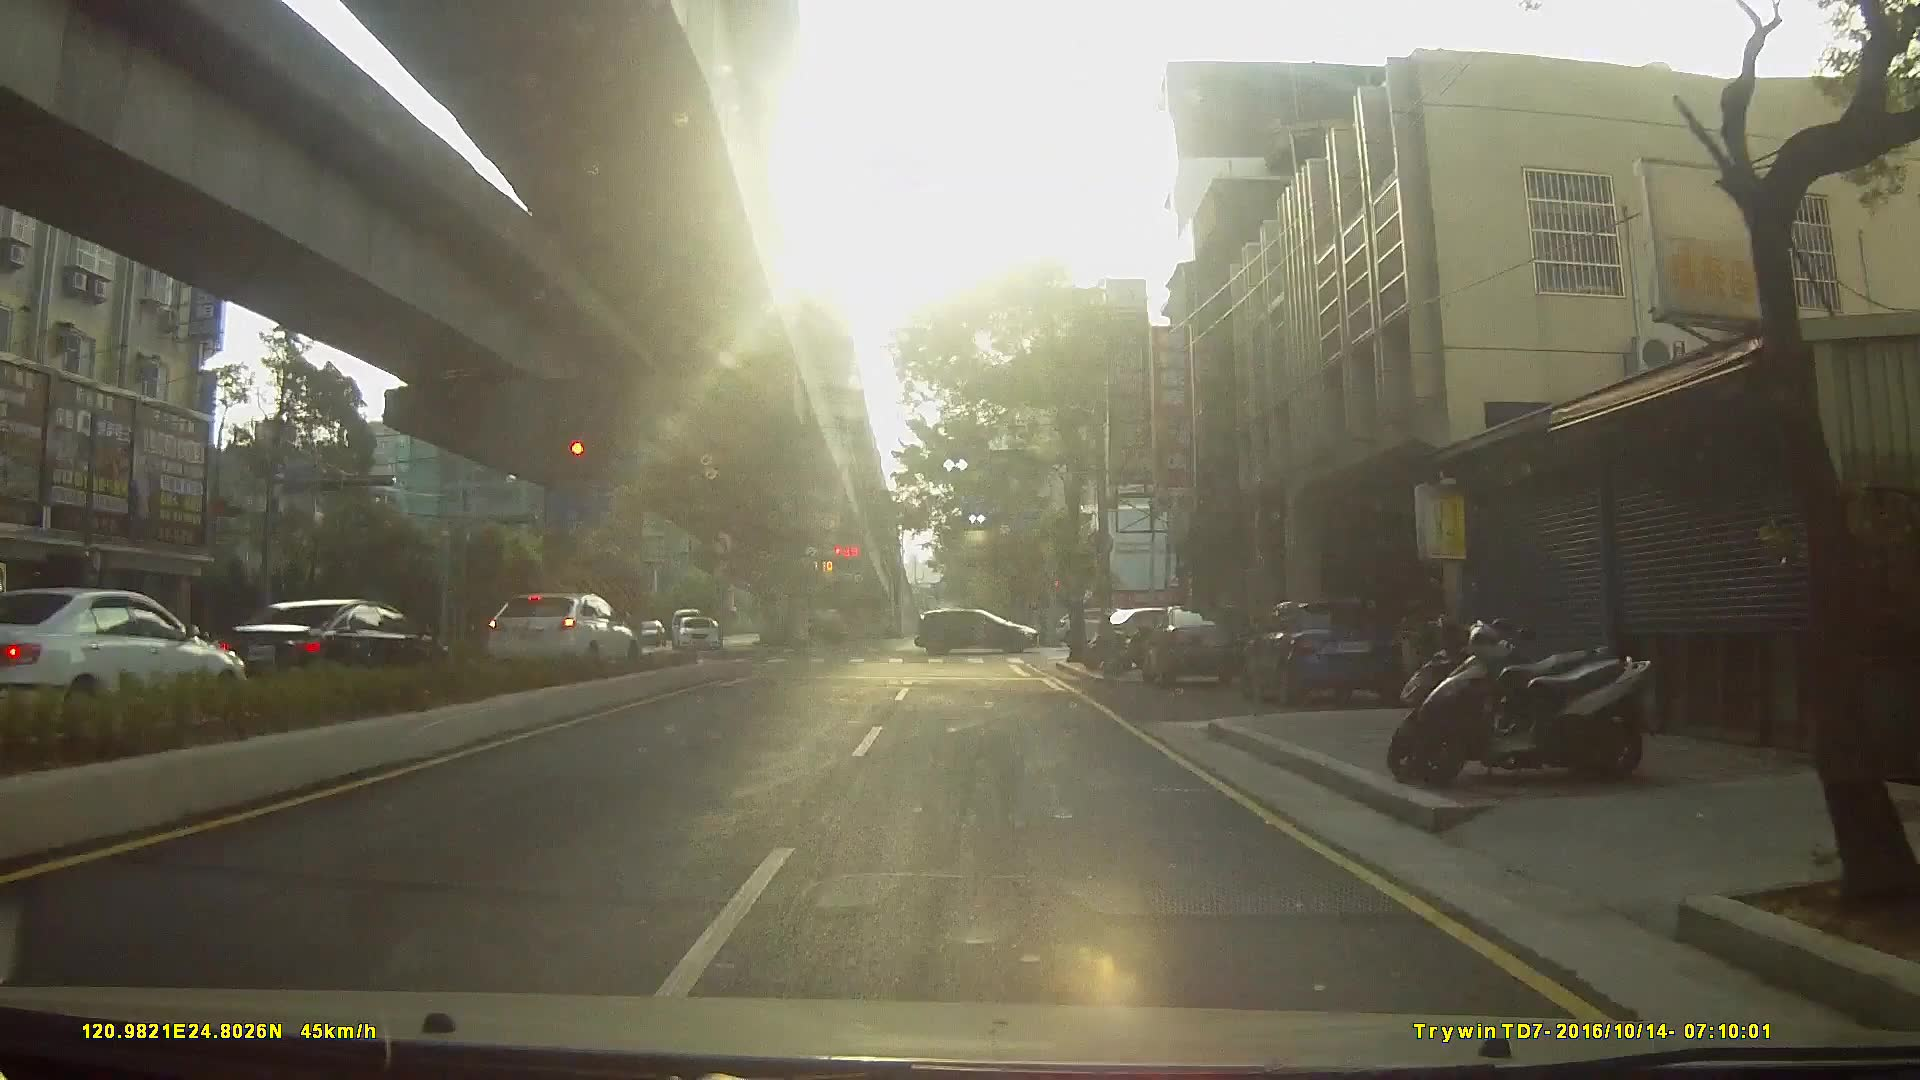vehicle: (1, 585, 247, 735), (207, 597, 454, 698), (1247, 593, 1415, 709), (477, 591, 634, 671), (1141, 599, 1258, 684), (914, 605, 1040, 653), (673, 613, 717, 651), (624, 617, 665, 645)
